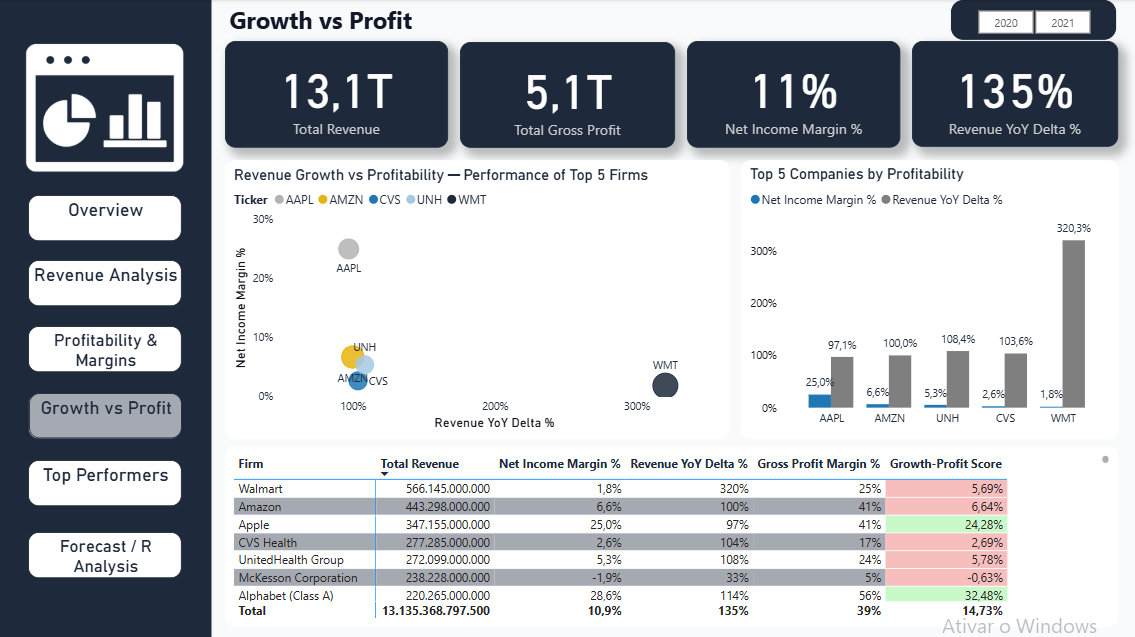

What the dashboard file says about the page in this screenshot:
{"tool":"powerbi","page":{"name":"Growth vs Profit","canvas":[1280,720],"ordinal":3},"visuals":[{"type":"card","title":"Top 10 YoY Revenue Growth","fields":{"Values":["#Measures.Total Revenue"]},"box":[255.4,47.2,250.9,120.4],"z":0},{"type":"card","title":"Top 10 YoY Revenue Growth","fields":{"Values":["#Measures.Net Income Margin %"]},"box":[774.9,47.2,240,120.4],"z":1000},{"type":"card","title":"Top 10 YoY Revenue Growth","fields":{"Values":["#Measures.Revenue YoY Delta %"]},"box":[1028.2,47.2,231.8,119.2],"z":2000},{"type":"card","title":"Top 10 YoY Revenue Growth","fields":{"Values":["#Measures.Total Gross Profit"]},"box":[519.6,48.4,241.9,119.2],"z":3000},{"type":"actionButton","title":"Growth vs Profit","box":[34.5,442.8,172.4,51],"z":3000,"group":"g1"},{"type":"actionButton","title":"Forecast / R Analysis","box":[33.8,599.6,173.2,51.8],"z":4000},{"type":"actionButton","title":"Top Performers","box":[33.8,518.6,173.2,51.8],"z":5000},{"type":"actionButton","title":"Growth vs Profit","box":[33.8,443.2,173.2,51.8],"z":6000},{"type":"actionButton","title":"Profitability & Margins","box":[33.8,367.9,173.2,51.8],"z":7000},{"type":"actionButton","title":"Revenue Analysis","box":[33.8,293.6,173.2,51.8],"z":8000},{"type":"actionButton","title":"Overview","box":[33.8,220.5,173.2,51.8],"z":9000},{"type":"group","id":"g1","title":"Active Buttons","box":[33.5,220.5,173.4,430.6],"z":10000},{"type":"scatterChart","title":"Revenue Growth vs Profitability ─ Performance of Top 5 Firms","fields":{"X":["#Measures.Revenue YoY Delta %"],"Y":["#Measures.Net Income Margin %"],"Size":["#Measures.Total Revenue"],"Series":["FinancialData.Ticker"]},"box":[255.1,181.2,567.9,313.9],"z":11000},{"type":"clusteredColumnChart","title":"Top 5 Companies by Profitability","fields":{"Category":["FinancialData.Ticker"],"Y":["#Measures.Net Income Margin %","#Measures.Revenue YoY Delta %"]},"box":[835.6,181.2,424.7,313.9],"z":12000},{"type":"pivotTable","fields":{"Rows":["FinancialData.firm"],"Values":["#Measures.Total Revenue","#Measures.Net Income Margin %","#Measures.Revenue YoY Delta %","#Measures.Gross Profit Margin %","#Measures.Growth-Profit Score"]},"box":[255.1,503.2,1005.3,204.3],"z":13000},{"type":"textbox","box":[255.1,0,300.1,65.8],"z":14000},{"type":"slicer","fields":{"Values":["DimCalendar.Year"]},"box":[1071.1,0,188.1,47.3],"z":15000}]}

Visuals, with their boxes on the page's 1280x720 design canvas (x1, y1, x2, y2). These are canvas units, not pixel positions in the 1135x637 screenshot, which may show the page scaled, cropped or inside an application window:
"Top 10 YoY Revenue Growth" card: crop(255, 47, 506, 168)
"Top 10 YoY Revenue Growth" card: crop(775, 47, 1015, 168)
"Top 10 YoY Revenue Growth" card: crop(1028, 47, 1260, 166)
"Top 10 YoY Revenue Growth" card: crop(520, 48, 762, 168)
"Growth vs Profit" actionButton: crop(34, 443, 207, 494)
"Forecast / R Analysis" actionButton: crop(34, 600, 207, 651)
"Top Performers" actionButton: crop(34, 519, 207, 570)
"Growth vs Profit" actionButton: crop(34, 443, 207, 495)
"Profitability & Margins" actionButton: crop(34, 368, 207, 420)
"Revenue Analysis" actionButton: crop(34, 294, 207, 345)
"Overview" actionButton: crop(34, 220, 207, 272)
"Active Buttons" group: crop(34, 220, 207, 651)
"Revenue Growth vs Profitability ─ Performance of Top 5 Firms" scatterChart: crop(255, 181, 823, 495)
"Top 5 Companies by Profitability" clusteredColumnChart: crop(836, 181, 1260, 495)
pivotTable - FinancialData.firm x #Measures.Total Revenue: crop(255, 503, 1260, 708)
textbox: crop(255, 0, 555, 66)
slicer - DimCalendar.Year: crop(1071, 0, 1259, 47)
